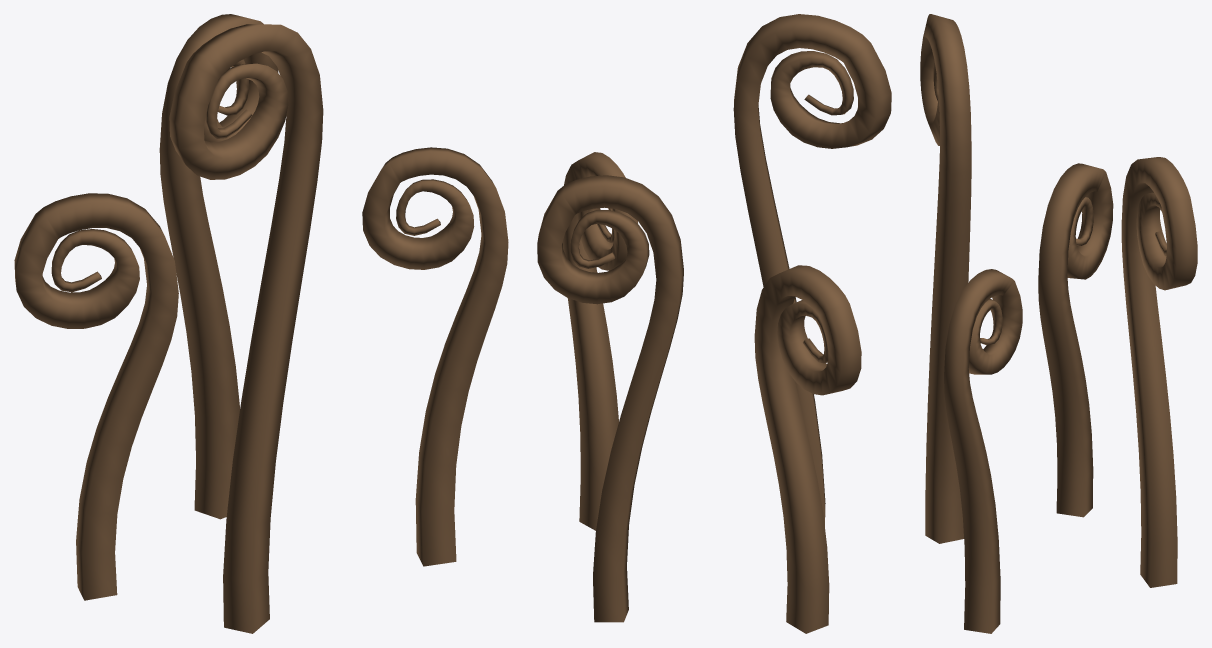
Rendered from quaternius-ultimate-space-pack-plant-3-transformed.glb.
3 views of the same model, side by side, from view 1: azimuth 30°, elevation 25°; view 2: azimuth 150°, elevation 25°; view 3: azimuth 270°, elevation 25° (orthographic). The views are drawn at different scales.
Parts seen in each view (by area): view 1: Plant_3; view 2: Plant_3; view 3: Plant_3.
Boxes of the visible parts, left/top/right/bottom form: Plant_3: left=14, top=14, right=508, bottom=633; Plant_3: left=537, top=14, right=891, bottom=633; Plant_3: left=920, top=14, right=1197, bottom=633.
Bounding box in the file's own units: 2.12 × 2.98 × 1.44.
Materials: 1 (1 with a texture image).
